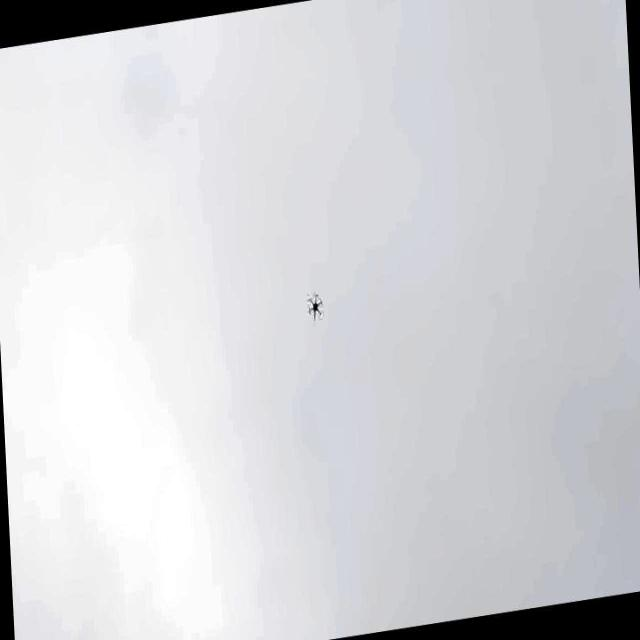drone: (305, 292, 328, 325)
